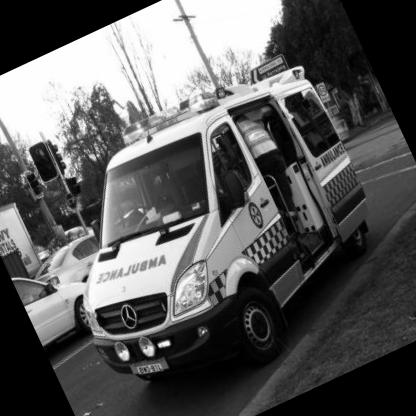ambulance: (9, 23, 416, 413)
car: (2, 231, 104, 357)
